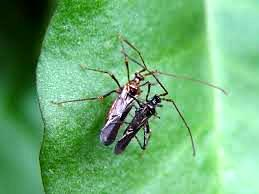Helopeltis-insect: (97, 68, 144, 144), (114, 93, 162, 157)
